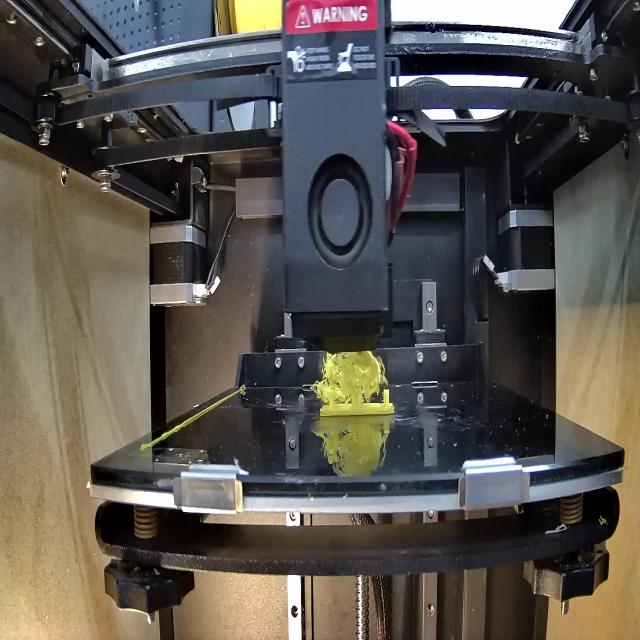spaghetti: (308, 348, 393, 402)
